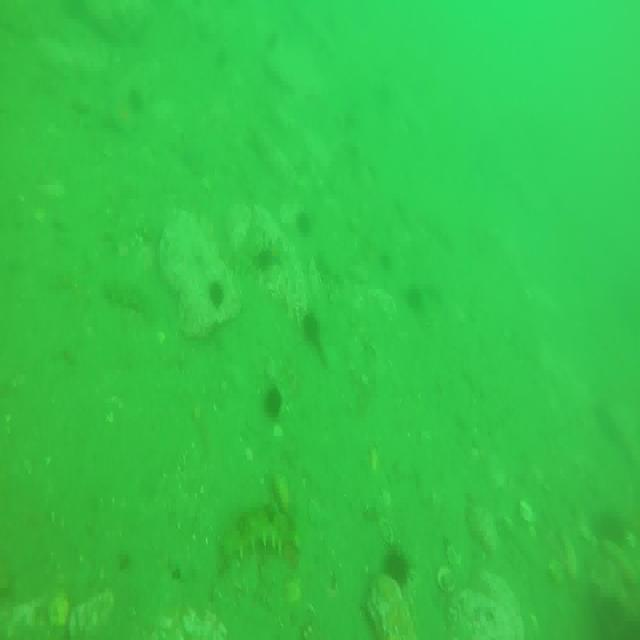echinus: (387, 547, 414, 593), (302, 308, 324, 344), (264, 384, 286, 419), (207, 278, 225, 307), (298, 212, 311, 237)
holothurian: (224, 506, 298, 558), (102, 275, 151, 310), (219, 241, 260, 276)
starfish: (110, 102, 142, 136), (264, 236, 289, 271)
